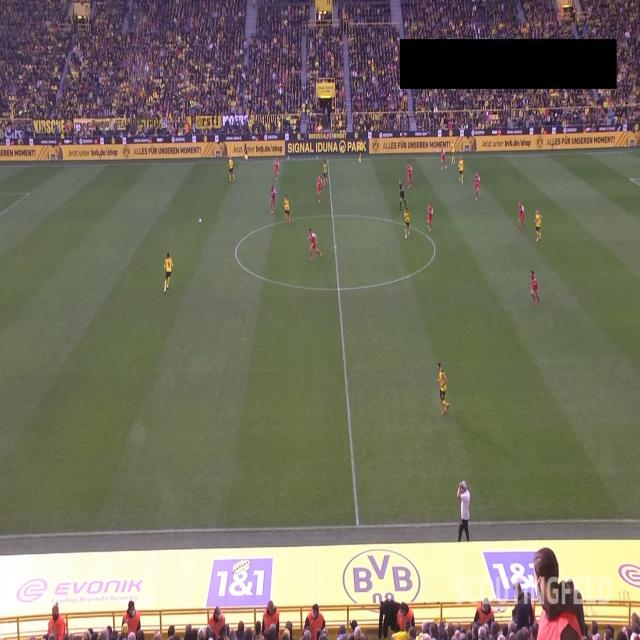ball: (198, 217, 203, 224)
